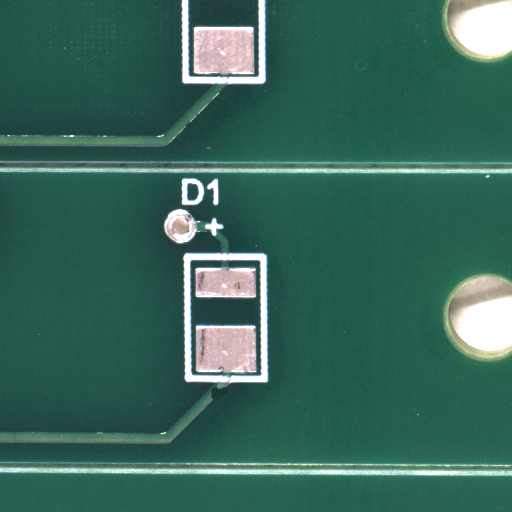Mouse_bite: (219, 393, 237, 406)
